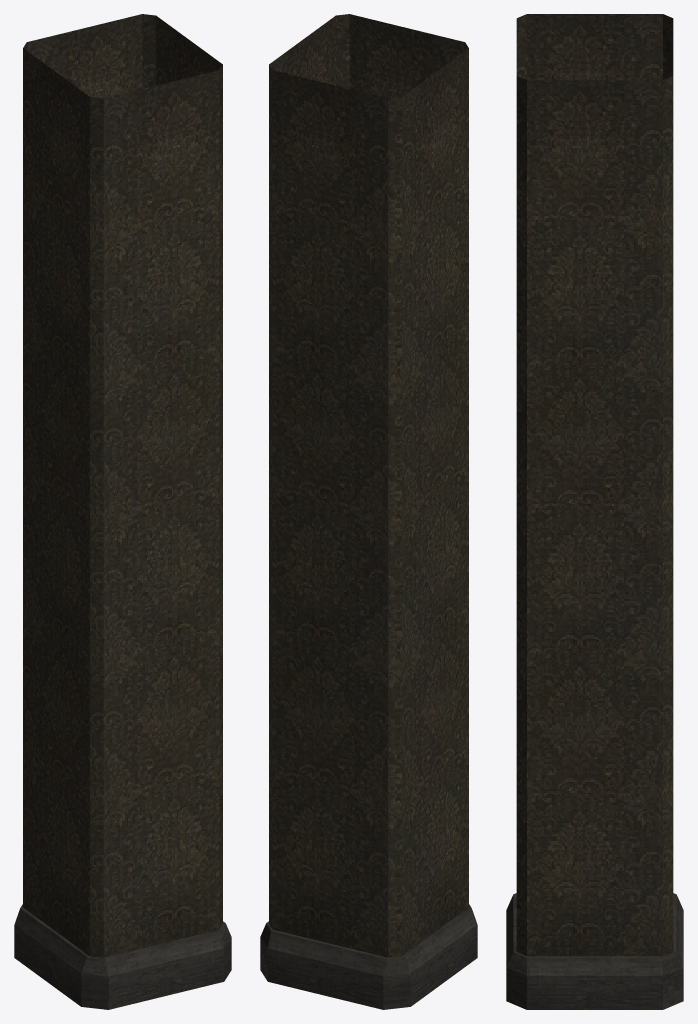
Rendered from pillar_3.glb.
The picture shows the model from 3 angles, left to right: view 1: azimuth 30°, elevation 25°; view 2: azimuth 150°, elevation 25°; view 3: azimuth 270°, elevation 25°; orthographic projection.
Parts seen in each view (by area): view 1: pillar_3; view 2: pillar_3; view 3: pillar_3.
Boxes of the visible parts, x1,y1,x2,y2 form: pillar_3: (14,14,231,1009); pillar_3: (260,14,477,1009); pillar_3: (506,14,683,1009).
Bounding box in the file's own units: 0.52 × 3 × 0.52.
Materials: 2 (2 with a texture image).
